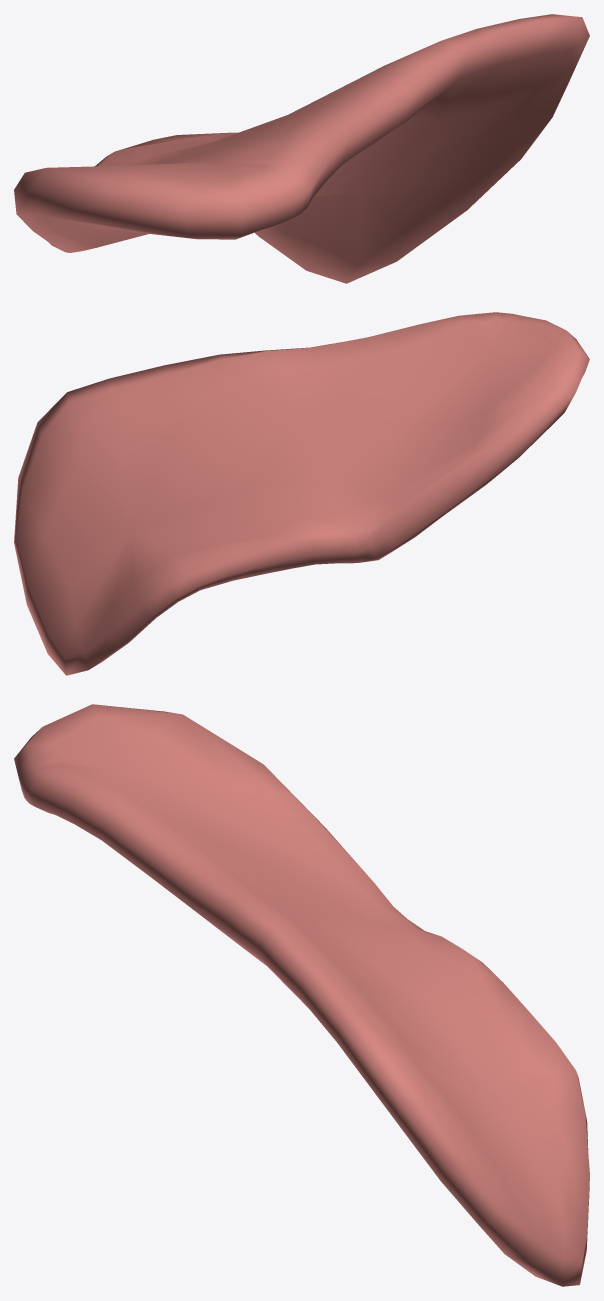
3 renders of one model, top to bottom at view 1: azimuth 30°, elevation 25°; view 2: azimuth 150°, elevation 25°; view 3: azimuth 270°, elevation 25°, orthographic. The views are drawn at different scales.
Visible parts, largest first — view 1: ZA_ae5924375e537849; view 2: ZA_ae5924375e537849; view 3: ZA_ae5924375e537849.
Part boxes in pixels (left/top/right/bottom): ZA_ae5924375e537849: left=14, top=14, right=589, bottom=283; ZA_ae5924375e537849: left=14, top=312, right=589, bottom=675; ZA_ae5924375e537849: left=14, top=704, right=589, bottom=1286.
Bounding box in the file's own units: 0.0126 × 0.00729 × 0.0104.
